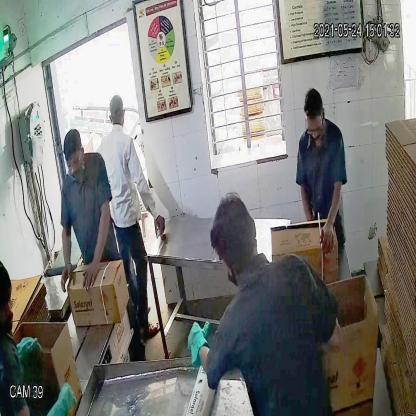goggles: (304, 118, 326, 139), (63, 152, 85, 172)
